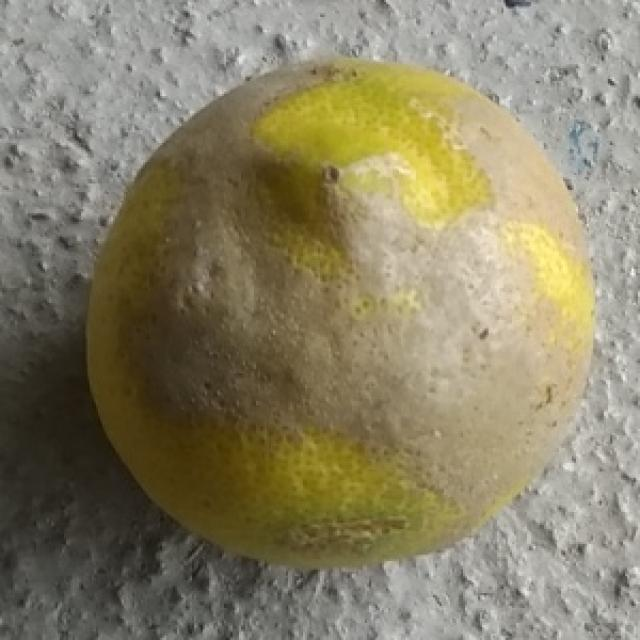overripe: (73, 46, 611, 572)
